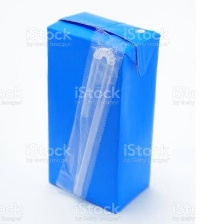carton: (43, 8, 159, 215)
